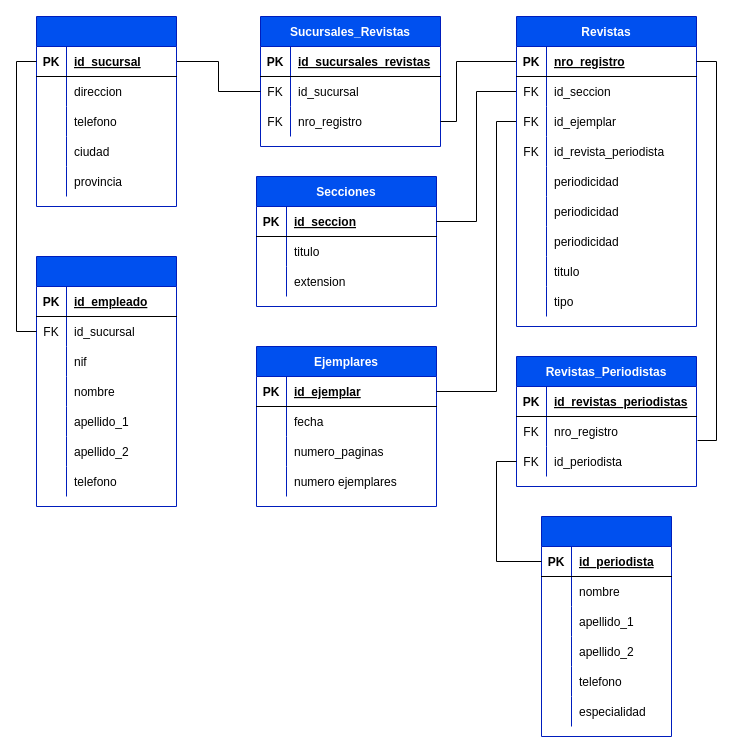
The diagram is 733 pixels wide and 753 high, and some of its shapes have lost their labels. Each missing label, with the box of its shape:
Empleados: (36, 256, 176, 506)
Periodistas: (540, 516, 672, 736)
Sucursales: (36, 16, 176, 206)
